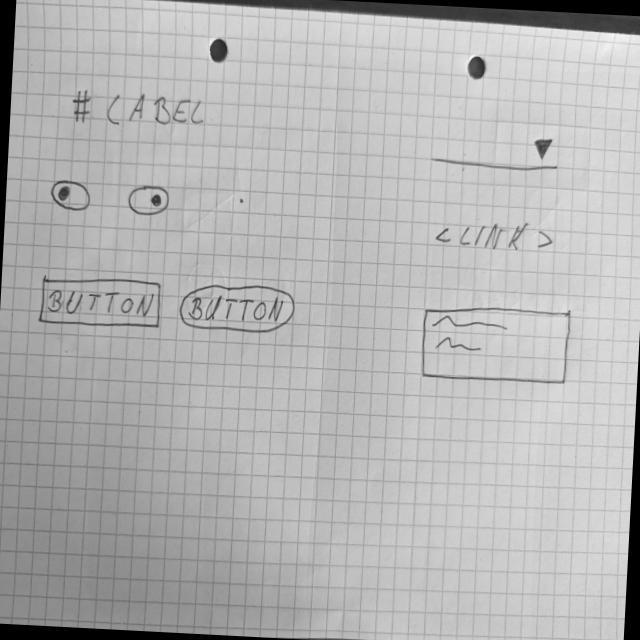button: (38, 272, 163, 332), (177, 278, 298, 336)
label: (71, 86, 208, 132)
link: (433, 215, 555, 254)
select: (428, 128, 562, 176)
textarea: (418, 301, 572, 388)
toggle: (48, 178, 93, 215), (127, 182, 171, 218)
